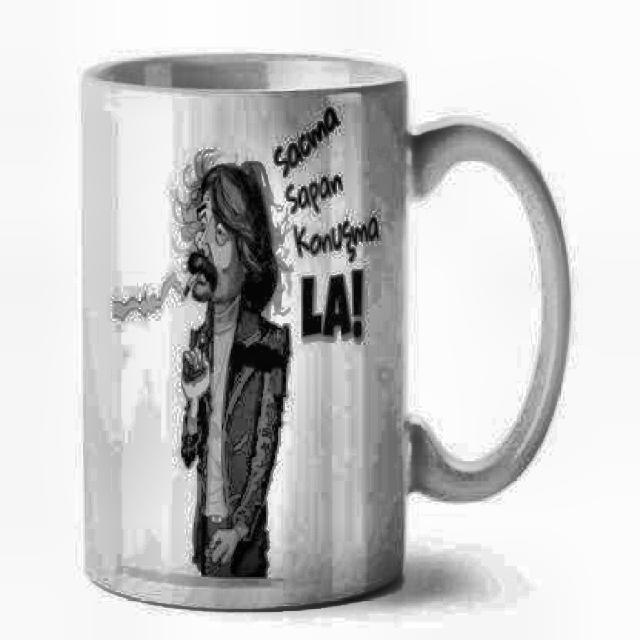Mug: (77, 48, 572, 614)
